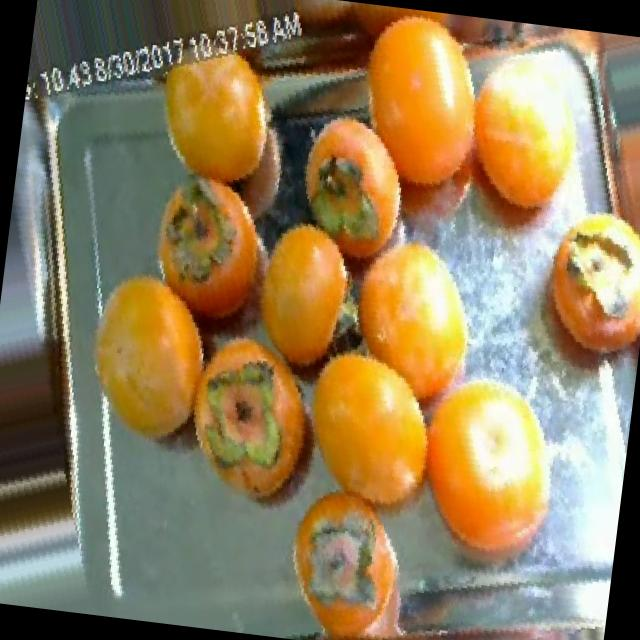Fruit: (66, 242, 244, 477), (322, 208, 504, 428), (123, 16, 304, 230), (232, 195, 376, 399), (567, 73, 640, 270)
